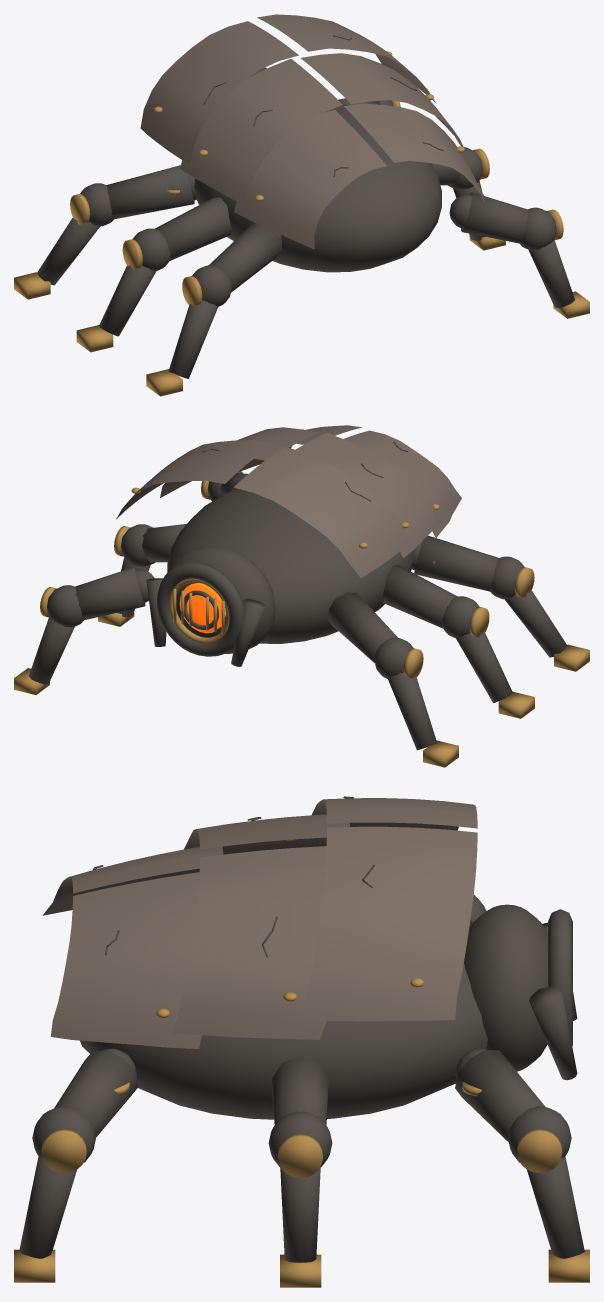
The model's file is mortar-scarab-base.glb.
3 views of the same model, one above another, from view 1: azimuth 30°, elevation 25°; view 2: azimuth 150°, elevation 25°; view 3: azimuth 270°, elevation 25° (orthographic). The views are drawn at different scales.
Parts seen in each view (by area): view 1: body-armored-chassis, shell-lamella-01-left, shell-lamella-00-left, shell-lamella-02-left, shell-lamella-00-right, shell-lamella-01-right, shell-lamella-02-right, leg-left-0-upper, leg-left-1-upper, leg-left-2-upper, leg-right-2-upper, leg-left-2-shin (+16 smaller); view 2: body-armored-chassis, shell-lamella-02-left, shell-lamella-01-left, head-vent-housing, shell-lamella-02-right, head-vent-outer-collar, shell-lamella-00-left, leg-left-2-upper, leg-left-1-upper, leg-left-0-upper, leg-right-0-upper, leg-left-0-shin (+22 smaller); view 3: shell-lamella-02-right, body-armored-chassis, shell-lamella-01-right, shell-lamella-00-right, head-vent-housing, shell-lamella-02-left, leg-right-0-upper, shell-lamella-01-left, shell-lamella-00-left, leg-right-2-upper, leg-right-0-shin, leg-right-2-shin (+13 smaller).
Boxes of the visible parts, left/top/right/bottom form: body-armored-chassis: left=194, top=104, right=441, bottom=272; shell-lamella-01-left: left=180, top=59, right=342, bottom=204; shell-lamella-00-left: left=234, top=109, right=386, bottom=249; shell-lamella-02-left: left=140, top=21, right=298, bottom=164; shell-lamella-00-right: left=343, top=103, right=484, bottom=203; shell-lamella-01-right: left=300, top=53, right=466, bottom=153; shell-lamella-02-right: left=257, top=14, right=436, bottom=103; leg-left-0-upper: left=106, top=165, right=194, bottom=219; leg-left-1-upper: left=154, top=197, right=231, bottom=260; leg-left-2-upper: left=209, top=222, right=282, bottom=292; leg-right-2-upper: left=461, top=192, right=528, bottom=243; leg-left-2-shin: left=168, top=300, right=217, bottom=378; body-armored-chassis: left=167, top=488, right=413, bottom=643; shell-lamella-02-left: left=234, top=447, right=411, bottom=577; shell-lamella-01-left: left=295, top=433, right=439, bottom=558; head-vent-housing: left=167, top=546, right=275, bottom=653; shell-lamella-02-right: left=116, top=440, right=275, bottom=519; head-vent-outer-collar: left=157, top=563, right=243, bottom=656; shell-lamella-00-left: left=343, top=430, right=461, bottom=537; leg-left-2-upper: left=414, top=535, right=498, bottom=591; leg-left-1-upper: left=382, top=565, right=457, bottom=628; leg-left-0-upper: left=327, top=592, right=397, bottom=662; leg-right-0-upper: left=75, top=567, right=145, bottom=620; leg-left-0-shin: left=388, top=672, right=436, bottom=750; shell-lamella-02-right: left=298, top=826, right=477, bottom=1021; body-armored-chassis: left=80, top=963, right=487, bottom=1119; shell-lamella-01-right: left=172, top=846, right=326, bottom=1039; shell-lamella-00-right: left=51, top=872, right=201, bottom=1048; head-vent-housing: left=464, top=904, right=547, bottom=1071; shell-lamella-02-left: left=312, top=798, right=477, bottom=830; leg-right-0-upper: left=455, top=1050, right=545, bottom=1141; shell-lamella-01-left: left=184, top=814, right=350, bottom=854; shell-lamella-00-left: left=42, top=846, right=223, bottom=915; leg-right-2-upper: left=54, top=1050, right=138, bottom=1137; leg-right-0-shin: left=527, top=1156, right=584, bottom=1258; leg-right-2-shin: left=19, top=1156, right=76, bottom=1258.
Bounding box in the file's own units: 1.2 × 0.6187 × 0.975.
